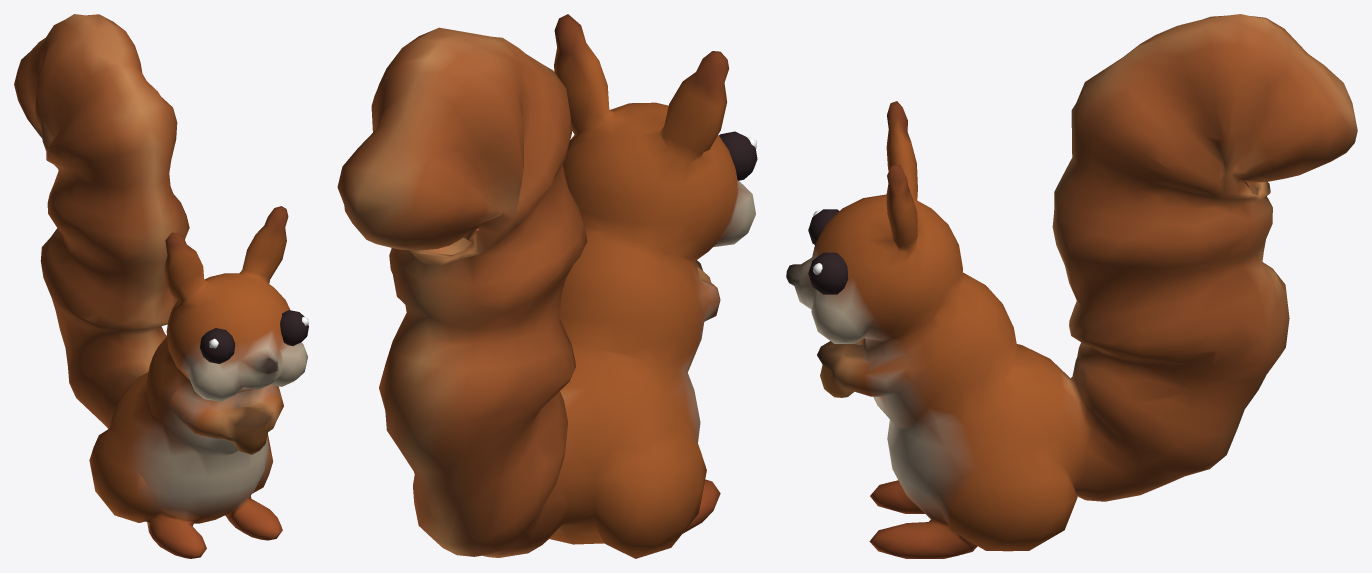
Rendered from critter_squirrel.glb.
The picture shows the model from 3 angles, left to right: view 1: azimuth 30°, elevation 25°; view 2: azimuth 150°, elevation 25°; view 3: azimuth 270°, elevation 25°; orthographic projection. The views are drawn at different scales.
Visible parts, largest first — view 1: squirrel_body, squirrel_eye_l, squirrel_eye_r; view 2: squirrel_body, squirrel_eye_l; view 3: squirrel_body, squirrel_eye_r.
Boxes of the visible parts, box(x1,y1,x2,y2) form: squirrel_body: box(14, 14, 307, 558); squirrel_eye_l: box(200, 328, 235, 363); squirrel_eye_r: box(280, 310, 308, 345); squirrel_body: box(337, 14, 755, 558); squirrel_eye_l: box(719, 131, 757, 180); squirrel_body: box(786, 14, 1357, 558); squirrel_eye_r: box(808, 252, 848, 294).
Size of the model in its own units: 0.1254 by 0.3241 by 0.3227.
